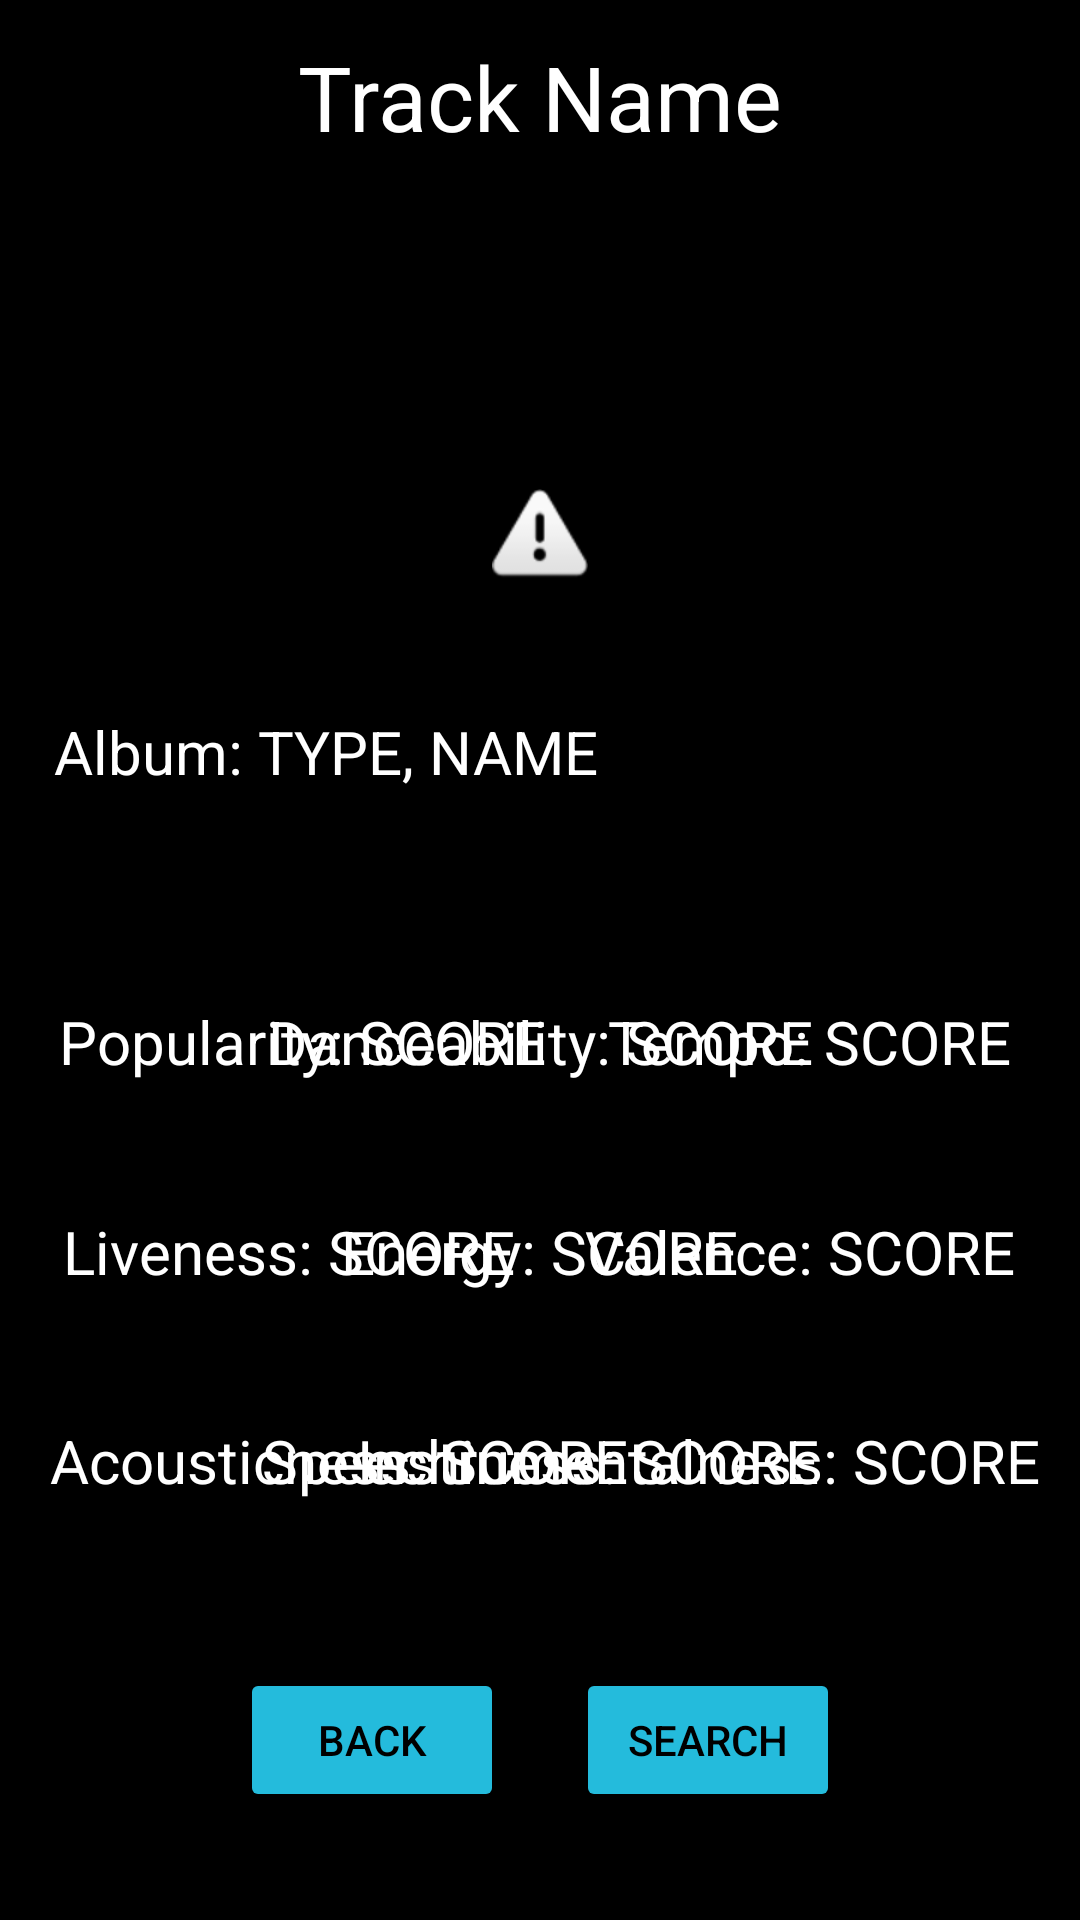

Icons on this 1080 × 1920 Android screen, each with its box as (x1, y1, x2, y2):
alert: (492, 489, 588, 577)
